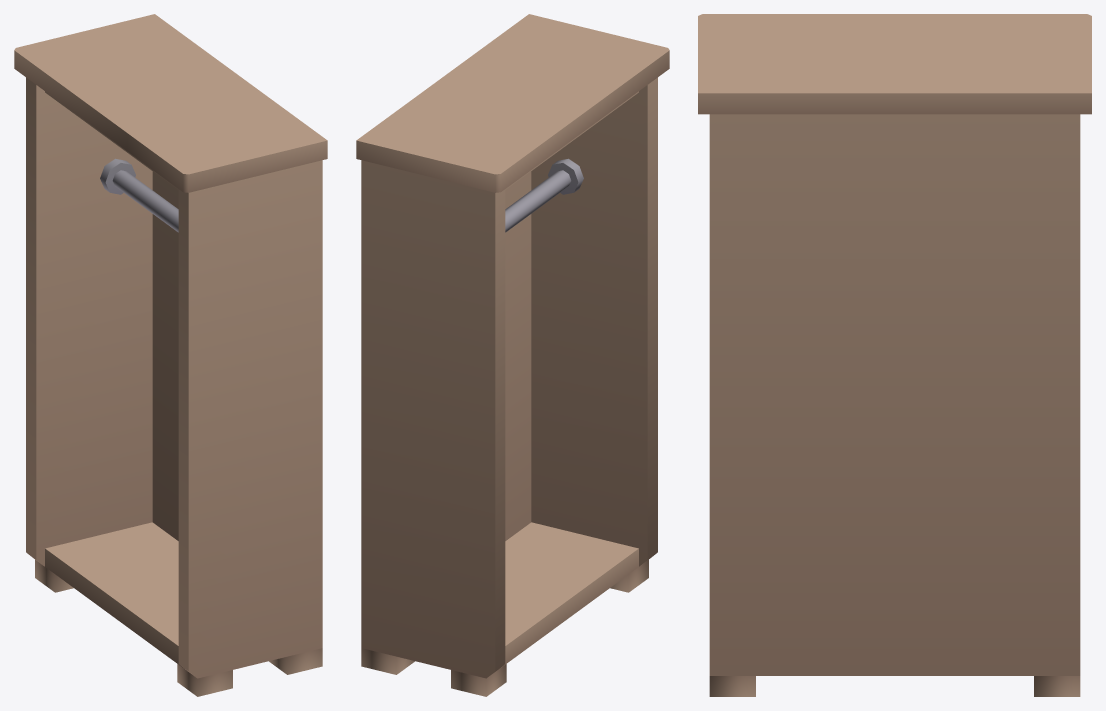
File: cabinet-clothing-classic.glb
The picture shows the model from 3 angles, left to right: view 1: azimuth 30°, elevation 25°; view 2: azimuth 150°, elevation 25°; view 3: azimuth 270°, elevation 25°; orthographic projection. The views are drawn at different scales.
Visible parts, largest first — view 1: cabinet-clothing-classic; view 2: cabinet-clothing-classic; view 3: cabinet-clothing-classic.
Part boxes in pixels (x1=…): cabinet-clothing-classic: x1=14, y1=14, x2=327, y2=696; cabinet-clothing-classic: x1=356, y1=14, x2=669, y2=696; cabinet-clothing-classic: x1=698, y1=14, x2=1091, y2=696.
Bounding box in the file's own units: 0.405 × 1.44 × 0.85.
